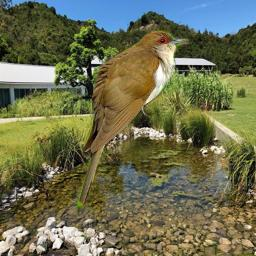Cuckoo: (76, 28, 189, 218)
